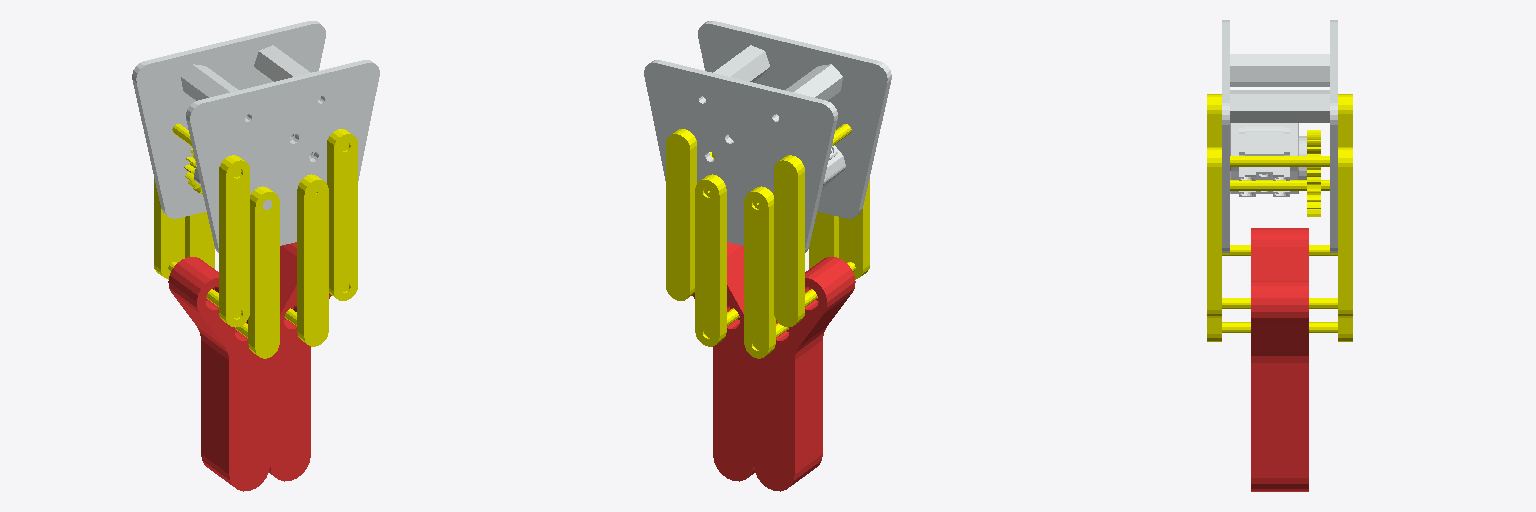
robot.urdf — gripper:
<?xml version="1.0" encoding="utf-8"?>
<!-- This URDF was automatically created by SolidWorks to URDF Exporter! Originally created by [author] ([email redacted]) 
     Commit Version: 1.6.0-1-g15f4949  Build Version: 1.6.7594.29634
     For more information, please see http://wiki.ros.org/sw_urdf_exporter -->
<robot
  name="gripper">
  <link name="world"/>
  <joint name="base_joint" type="fixed">
  	<origin xyz= "0 0 1 " rpy="0 3.1416 0"/>
  	<parent link="world"/>
  	<child link="gripper_base_link"/>
  </joint>
  <link
    name="gripper_base_link">
    <inertial>
      <origin
        xyz="0.00070517 -0.00079249 -0.039763"
        rpy="0 0 0" />
      <mass
        value="0.1334" />
      <inertia
        ixx="2.8688E-05"
        ixy="-4.4946E-08"
        ixz="-3.6321E-07"
        iyy="4.8932E-05"
        iyz="-4.0469E-08"
        izz="3.2073E-05" />
    </inertial>
    <visual>
      <origin
        xyz="0 0 0"
        rpy="0 0 0" />
      <geometry>
        <mesh
          filename="package://gripper_description/meshes/gripper_base_link.STL" />
      </geometry>
      <material
        name="">
        <color
          rgba="0.90196 0.92157 0.92157 1" />
      </material>
    </visual>
    <collision>
      <origin
        xyz="0 0 0"
        rpy="0 0 0" />
      <geometry>
        <mesh
          filename="package://gripper_description/meshes/gripper_base_link.STL" />
      </geometry>
    </collision>
  </link>
  <link
    name="left_actuator">
    <inertial>
      <origin
        xyz="0.03452 -2.9837E-16 0.0013795"
        rpy="0 0 0" />
      <mass
        value="0.013052" />
      <inertia
        ixx="1.1549E-06"
        ixy="-3.5645E-22"
        ixz="-3.3818E-21"
        iyy="3.1196E-06"
        iyz="3.4195E-22"
        izz="2.1584E-06" />
    </inertial>
    <visual>
      <origin
        xyz="0 0 0"
        rpy="0 0 0" />
      <geometry>
        <mesh
          filename="package://gripper_description/meshes/left_actuator.STL" />
      </geometry>
      <material
        name="">
        <color
          rgba="1 1 0 1" />
      </material>
    </visual>
    <collision>
      <origin
        xyz="0 0 0"
        rpy="0 0 0" />
      <geometry>
        <mesh
          filename="package://gripper_description/meshes/left_actuator.STL" />
      </geometry>
    </collision>
  </link>
  <joint
    name="left_act_joint"
    type="revolute">
    <origin
      xyz="0.01 0 -0.02"
      rpy="-1.5708 -1.5708 0" />
    <parent
      link="gripper_base_link" />
    <child
      link="left_actuator" />
    <axis
      xyz="0 0 1" />
    <limit
      lower="0"
      upper="1.5708"
      effort="1"
      velocity="1" />
  </joint>
  <link
    name="rocker_left_link">
    <inertial>
      <origin
        xyz="-0.00076233 0.021677 3.747E-16"
        rpy="0 0 0" />
      <mass
        value="0.028086" />
      <inertia
        ixx="1.617E-05"
        ixy="-2.1715E-06"
        ixz="5.0364E-22"
        iyy="2.1438E-06"
        iyz="3.6038E-21"
        izz="1.6459E-05" />
    </inertial>
    <visual>
      <origin
        xyz="0 0 0"
        rpy="0 0 0" />
      <geometry>
        <mesh
          filename="package://gripper_description/meshes/rocker_left_link.STL" />
      </geometry>
      <material
        name="">
        <color
          rgba="0.95 0.25 0.25 1" />
      </material>
    </visual>
    <collision>
      <origin
        xyz="0 0 0"
        rpy="0 0 0" />
      <geometry>
        <mesh
          filename="package://gripper_description/meshes/rocker_left_link.STL" />
      </geometry>
    </collision>
  </link>
  <joint
    name="rocker_left_joint"
    type="revolute">
    <origin
      xyz="0.055 0 0"
      rpy="0 0 -1.5708" />
    <parent
      link="left_actuator" />
    <child
      link="rocker_left_link" />
    <axis
      xyz="0 0 1" />
    <limit
      lower="-3.1415926"
      upper="3.1415926"
      effort="1"
      velocity="1" />
    <mimic
      joint="left_act_joint"
      multiplier="-1"
      offset="0" />
  </joint>
  <link
    name="right_actuator">
    <inertial>
      <origin
        xyz="0.033438 -2.8927E-16 0.0010856"
        rpy="0 0 0" />
      <mass
        value="0.013474" />
      <inertia
        ixx="1.3401E-06"
        ixy="-6.3169E-21"
        ixz="-3.5833E-21"
        iyy="3.3048E-06"
        iyz="1.1622E-21"
        izz="2.1593E-06" />
    </inertial>
    <visual>
      <origin
        xyz="0 0 0"
        rpy="0 0 0" />
      <geometry>
        <mesh
          filename="package://gripper_description/meshes/right_actuator.STL" />
      </geometry>
      <material
        name="">
        <color
          rgba="1 1 0 1" />
      </material>
    </visual>
    <collision>
      <origin
        xyz="0 0 0"
        rpy="0 0 0" />
      <geometry>
        <mesh
          filename="package://gripper_description/meshes/right_actuator.STL" />
      </geometry>
    </collision>
  </link>
  <joint
    name="right_act_joint"
    type="revolute">
    <origin
      xyz="-0.01 0 -0.02"
      rpy="-1.5708 -1.5708 0" />
    <parent
      link="gripper_base_link" />
    <child
      link="right_actuator" />
    <axis
      xyz="0 0 1" />
    <limit
      lower="0"
      upper="-1.5708"
      effort="1"
      velocity="1" />
    <mimic
      joint="left_act_joint"
      multiplier="-1"
      offset="0" />
  </joint>
  <link
    name="rocker_right_link">
    <inertial>
      <origin
        xyz="-0.00076233 -0.021677 -8.3267E-17"
        rpy="0 0 0" />
      <mass
        value="0.028086" />
      <inertia
        ixx="1.617E-05"
        ixy="2.1715E-06"
        ixz="7.6236E-21"
        iyy="2.1438E-06"
        iyz="-5.0363E-20"
        izz="1.6459E-05" />
    </inertial>
    <visual>
      <origin
        xyz="0 0 0"
        rpy="0 0 0" />
      <geometry>
        <mesh
          filename="package://gripper_description/meshes/rocker_right_link.STL" />
      </geometry>
      <material
        name="">
        <color
          rgba="0.95 0.25 0.25 1" />
      </material>
    </visual>
    <collision>
      <origin
        xyz="0 0 0"
        rpy="0 0 0" />
      <geometry>
        <mesh
          filename="package://gripper_description/meshes/rocker_right_link.STL" />
      </geometry>
    </collision>
  </link>
  <joint
    name="rocker_right_joint"
    type="revolute">
    <origin
      xyz="0.055 0 0"
      rpy="0 0 1.5708" />
    <parent
      link="right_actuator" />
    <child
      link="rocker_right_link" />
    <axis
      xyz="0 0 1" />
    <limit
      lower="-3.1415926"
      upper="3.1415926"
      effort="1"
      velocity="1" />
    <mimic
      joint="right_act_joint"
      multiplier="-1"
      offset="0" />
  </joint>
  <link
    name="crank_left_link">
    <inertial>
      <origin
        xyz="0.0275 6.9389E-18 -0.00030296"
        rpy="0 0 0" />
      <mass
        value="0.016384" />
      <inertia
        ixx="2.1456E-06"
        ixy="-3.7323E-22"
        ixz="1.8204E-22"
        iyy="4.1103E-06"
        iyz="4.9406E-25"
        izz="2.0926E-06" />
    </inertial>
    <visual>
      <origin
        xyz="0 0 0"
        rpy="0 0 0" />
      <geometry>
        <mesh
          filename="package://gripper_description/meshes/crank_left_link.STL" />
      </geometry>
      <material
        name="">
        <color
          rgba="1 1 0 1" />
      </material>
    </visual>
    <collision>
      <origin
        xyz="0 0 0"
        rpy="0 0 0" />
      <geometry>
        <mesh
          filename="package://gripper_description/meshes/crank_left_link.STL" />
      </geometry>
    </collision>
  </link>
  <joint
    name="crank_left_joint"
    type="revolute">
    <origin
      xyz="0.022 0 -0.035"
      rpy="1.5708 -1.5708 0" />
    <parent
      link="gripper_base_link" />
    <child
      link="crank_left_link" />
    <axis
      xyz="0 0 -1" />
    <limit
      lower="-3.1415926"
      upper="3.1415926"
      effort="1.0"
      velocity="1.0" />
    <mimic
      joint="left_act_joint"
      multiplier="1"
      offset="0" />
  </joint>
  <link
    name="crank_right_link">
    <inertial>
      <origin
        xyz="0.0275 5.2042E-18 -0.00030296"
        rpy="0 0 0" />
      <mass
        value="0.016384" />
      <inertia
        ixx="2.1456E-06"
        ixy="-1.611E-22"
        ixz="1.8194E-22"
        iyy="4.1103E-06"
        iyz="-9.5995E-26"
        izz="2.0926E-06" />
    </inertial>
    <visual>
      <origin
        xyz="0 0 0"
        rpy="0 0 0" />
      <geometry>
        <mesh
          filename="package://gripper_description/meshes/crank_right_link.STL" />
      </geometry>
      <material
        name="">
        <color
          rgba="1 1 0 1" />
      </material>
    </visual>
    <collision>
      <origin
        xyz="0 0 0"
        rpy="0 0 0" />
      <geometry>
        <mesh
          filename="package://gripper_description/meshes/crank_right_link.STL" />
      </geometry>
    </collision>
  </link>
  <joint
    name="crank_right_joint"
    type="revolute">
    <origin
      xyz="-0.022 0 -0.035"
      rpy="1.5708 -1.5708 0" />
    <parent
      link="gripper_base_link" />
    <child
      link="crank_right_link" />
    <axis
      xyz="0 0 -1" />
    <limit
      lower="-3.1415926"
      upper="3.1415926"
      effort="1"
      velocity="1" />
    <mimic
      joint="left_act_joint"
      multiplier="-1"
      offset="0" />
  </joint>
  <!-- Gazebo elements-->
  
  <gazebo>
		<plugin name="gazebo_ros_control" filename="libgazebo_ros_control.so"/>
		<robotNamespace>/gripper</robotNamespace>
  </gazebo>
  <!-- gazebo references for links-->
  <gazebo reference="left_actuator">
    <kp>10000.0</kp>
    <kd>1000.0</kd>
  	<mu1>0.2</mu1>
    <mu2>0.2</mu2>
    <material>Gazebo/Yellow</material>
  </gazebo>
  <gazebo reference="crank_left_link">
    <kp>10000.0</kp>
    <kd>1000.0</kd>
  	<mu1>0.2</mu1>
    <mu2>0.2</mu2>
    <material>Gazebo/Yellow</material>
  </gazebo>
  <gazebo reference="rocker_left_link">
    <kp>10000.0</kp>
    <kd>1000.0</kd>
  	<mu1>0.2</mu1>
    <mu2>0.2</mu2>
    <material>Gazebo/Red</material>
  </gazebo>
  <gazebo reference="right_actuator">
    <kp>10000.0</kp>
    <kd>1000.0</kd>
  	<mu1>0.2</mu1>
    <mu2>0.2</mu2>
    <material>Gazebo/Yellow</material>
  </gazebo>
  <gazebo reference="crank_right_link">
    <kp>10000.0</kp>
    <kd>1000.0</kd>
  	<mu1>0.2</mu1>
    <mu2>0.2</mu2>
    <material>Gazebo/Yellow</material>
  </gazebo>
  <gazebo reference="rocker_right_link">
    <kp>10000.0</kp>
    <kd>1000.0</kd>
  	<mu1>0.2</mu1>
    <mu2>0.2</mu2>
    <material>Gazebo/Red</material>
  </gazebo>
  
  <transmission name="trans1">
        <type>transmission_interface/SimpleTransmission</type>
        <joint name="left_act_joint">
            <hardwareInterface>hardware_interface/EffortJointInterface</hardwareInterface>
        </joint>
        <actuator name="motor1">
            <hardwareInterface>hardware_interface/EffortJointInterface</hardwareInterface>
            <mechanicalReduction>1</mechanicalReduction>
        </actuator>
  </transmission>
  
  <gazebo>
  	<plugin name="rocker_left_joint_plugin" filename="libroboticsgroup_upatras_gazebo_mimic_joint_plugin.so">
  		<joint> left_act_joint</joint>
  		<mimicJoint>rocker_left_joint</mimicJoint>
  		<multiplier>-1.0</multiplier>
  		<offset>0.0</offset>
  	</plugin>
  </gazebo>
  <gazebo>
  	<plugin name="right_act_joint_plugin" filename="libroboticsgroup_upatras_gazebo_mimic_joint_plugin.so">
  		<joint> left_act_joint</joint>
  		<mimicJoint>right_act_joint</mimicJoint>
  		<multiplier>-1.0</multiplier>
  		<offset>0.0</offset>
  	</plugin>
  </gazebo>
  <gazebo>
  	<plugin name="rocker_right_joint_plugin" filename="libroboticsgroup_upatras_gazebo_mimic_joint_plugin.so">
  		<joint> right_act_joint</joint>
  		<mimicJoint>rocker_right_joint</mimicJoint>
  		<multiplier>-1.0</multiplier>
  		<offset>0.0</offset>
  	</plugin>
  </gazebo>
  <gazebo>
  	<plugin name="crank_left_joint_plugin" filename="libroboticsgroup_upatras_gazebo_mimic_joint_plugin.so">
  		<joint> left_act_joint</joint>
  		<mimicJoint>crank_left_joint</mimicJoint>
  		<multiplier>1.0</multiplier>
  		<offset>0.0</offset>
  	</plugin>
  </gazebo>
  <gazebo>
  	<plugin name="crank_right_joint_plugin" filename="libroboticsgroup_upatras_gazebo_mimic_joint_plugin.so">
  		<joint> left_act_joint</joint>
  		<mimicJoint>crank_right_joint</mimicJoint>
  		<multiplier>-1.0</multiplier>
  		<offset>0.0</offset>
  	</plugin>
  </gazebo>
</robot>

--- Render facts (derived) ---
Views: 3 orthographic renders of the robot side by side, from view 1: azimuth 30°, elevation 25°; view 2: azimuth 150°, elevation 25°; view 3: azimuth 270°, elevation 25°.
Model gripper with 8 links and 7 joints (6 revolute, 1 fixed), rooted at world, posed every joint at zero.
Visible links, largest first — view 1: gripper_base_link, rocker_left_link, crank_left_link, rocker_right_link, left_actuator, right_actuator, crank_right_link; view 2: gripper_base_link, rocker_left_link, crank_left_link, rocker_right_link, left_actuator, right_actuator, crank_right_link; view 3: gripper_base_link, rocker_right_link, crank_right_link, rocker_left_link, right_actuator, crank_left_link.
Link boxes in pixels (x1,y1,x2,y2): gripper_base_link: [132, 21, 379, 252]; rocker_left_link: [168, 257, 269, 491]; crank_left_link: [154, 124, 249, 327]; rocker_right_link: [269, 242, 331, 481]; left_actuator: [184, 149, 279, 358]; right_actuator: [284, 174, 328, 346]; crank_right_link: [327, 129, 357, 300]; gripper_base_link: [644, 21, 891, 252]; rocker_left_link: [754, 257, 855, 491]; crank_left_link: [774, 124, 869, 327]; rocker_right_link: [692, 242, 754, 481]; left_actuator: [744, 186, 838, 358]; right_actuator: [695, 152, 739, 346]; crank_right_link: [666, 129, 696, 300]; gripper_base_link: [1222, 20, 1337, 252]; rocker_right_link: [1251, 281, 1308, 491]; crank_right_link: [1207, 147, 1352, 317]; rocker_left_link: [1251, 228, 1308, 280]; right_actuator: [1207, 154, 1352, 341]; crank_left_link: [1207, 94, 1352, 255].
Size in the robot's own frame: 0.0774 by 0.051 by 0.1613 metres.
7 mesh visuals loaded from 7 distinct referenced files (7 binary STL).